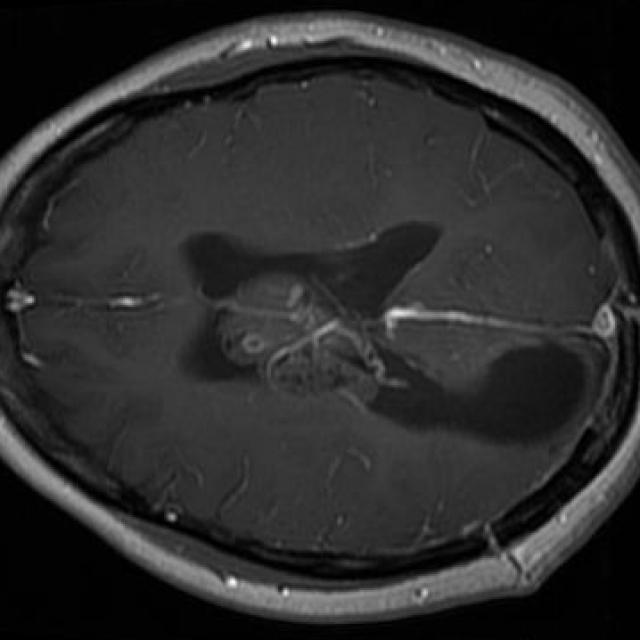glioma: (216, 273, 611, 439)
